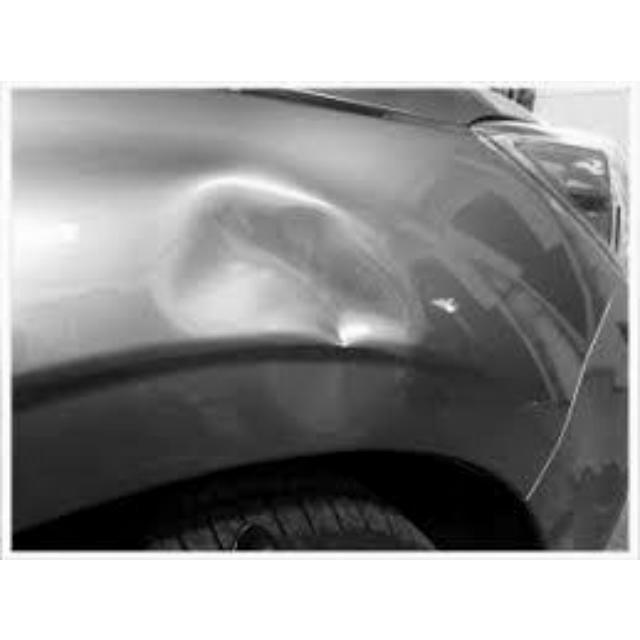fender-dent: (16, 91, 539, 528)
